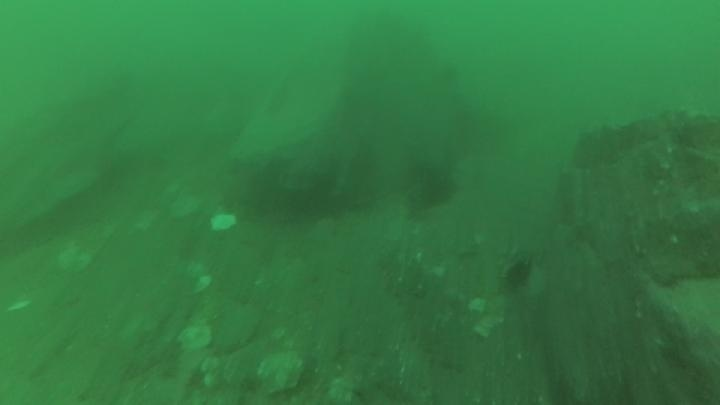echinus: (404, 159, 460, 214), (500, 256, 536, 293)
scallop: (175, 320, 214, 354), (207, 210, 239, 235)
